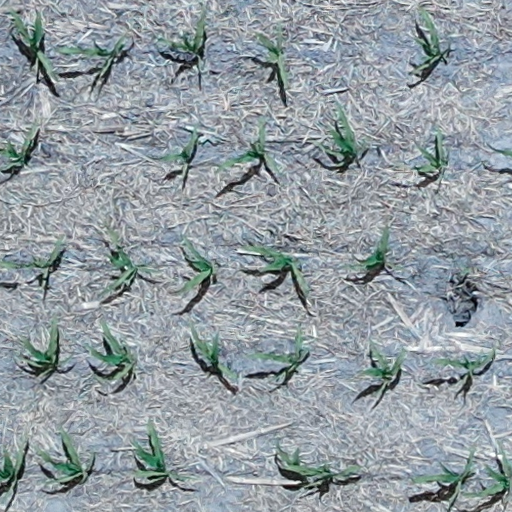planta: (101, 229, 158, 295), (241, 243, 312, 295), (130, 421, 190, 482), (213, 118, 279, 173), (408, 448, 474, 502), (9, 8, 58, 80), (20, 314, 74, 378), (247, 328, 308, 383), (37, 428, 94, 484), (53, 33, 126, 76), (84, 323, 136, 382), (158, 11, 206, 72), (191, 320, 240, 379), (146, 124, 198, 179), (348, 225, 408, 271), (316, 106, 357, 167), (434, 346, 497, 385), (411, 5, 445, 74), (355, 349, 406, 394), (175, 239, 216, 292), (254, 21, 286, 84), (276, 442, 328, 475), (410, 128, 448, 173), (299, 462, 361, 487)
